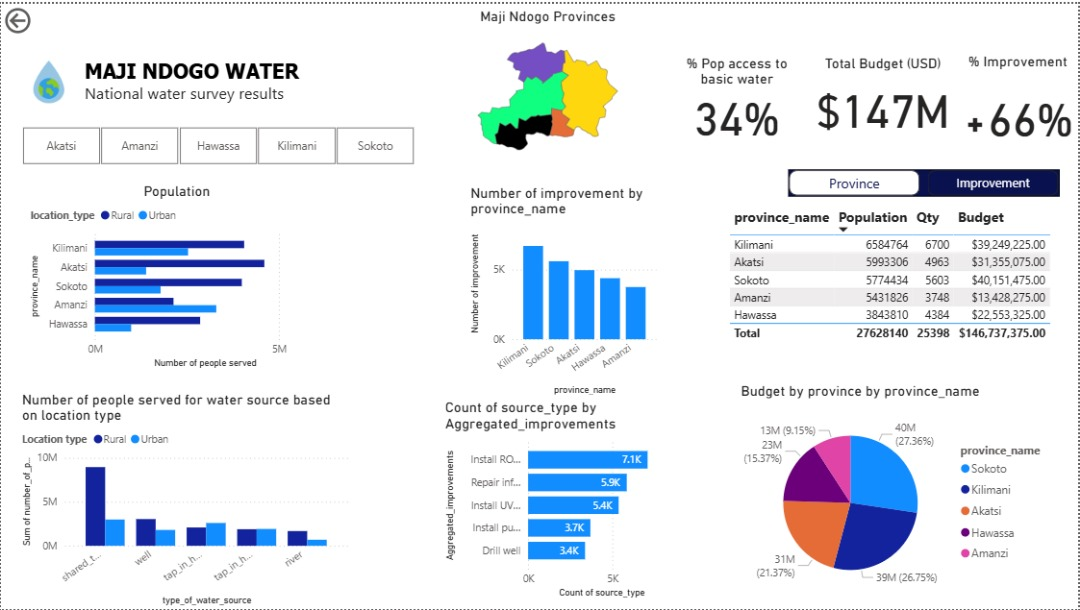

This screenshot's page, from the dashboard's own definition file:
{"tool":"powerbi","page":{"name":"Duplicate of Aziza-National- without the homepage","canvas":[1280,720],"ordinal":11},"visuals":[{"type":"clusteredBarChart","title":"Population","fields":{"Category":["location.province_name"],"Y":["water_source.number_of_people_served"],"Series":["location.location_type"]},"box":[30.2,212.3,358.3,225.6],"z":0},{"type":"clusteredColumnChart","title":"Number of people served for water source based on location type","fields":{"Series":["location.location_type"],"Category":["water_source.type_of_water_source"],"Y":["water_source.number_of_people_served"]},"box":[20.6,459.7,397.9,260.7],"z":1000},{"type":"textbox","box":[94.7,60.4,472,79.6],"z":2000},{"type":"image","box":[0,60.4,113.9,65.9],"z":3000},{"type":"slicer","fields":{"Values":["location.province_name"]},"box":[0,140,514.6,57.6],"z":4000},{"type":"shapeMap","title":"Maji Ndogo Provinces","fields":{"Category":["location.province_name"],"Series":["location.province_name"]},"box":[597.2,10.9,194.2,193],"z":5000},{"type":"clusteredColumnChart","fields":{"Category":["location.province_name"],"Y":["project_progress.improvement"]},"box":[515.2,222,231.6,255.8],"z":6000},{"type":"clusteredBarChart","fields":{"Category":["project_progress.Aggregated_improvements"],"Y":["project_progress.source_type"]},"box":[499.5,479,292,241.3],"z":7000},{"type":"card","title":"% Pop access to basic water","fields":{"Values":["water_source.Basic_access_water_level"]},"box":[791.4,60.3,166.5,103.8],"z":10000},{"type":"card","title":"Total Budget (USD)","fields":{"Values":["project_progress.Budgeted_improvement_cost"]},"box":[957.9,70,178.6,103.8],"z":11000},{"type":"card","title":"% Improvement","fields":{"Values":["water_source.Formatted_Lives_to_improve"]},"box":[1136.5,70,143.6,127.9],"z":12000},{"type":"pieChart","fields":{"Y":["project_progress.Budgeted_improvement_cost"],"Category":["location.province_name"]},"box":[934.5,450.1,274.4,269],"z":13000},{"type":"bookmarkNavigator","box":[935.6,196.6,322.1,32.1],"z":14000},{"type":"tableEx","title":"Number of people served for water source based on location type","fields":{"Values":["location.province_name","water_source.number_of_people_served","project_progress.Aggregated_improvements","project_progress.Budgeted_improvement_cost"]},"box":[860.4,236,402.1,214.1],"z":15000},{"type":"actionButton","box":[0,0,100,40],"z":16000}]}

Visuals, with their boxes in screenshot pixels (x1, y1, x2, y2), scaled from the page's 1280x720 canvas onto the 1080x610 screenshot:
"Population" clusteredBarChart: x1=25 y1=180 x2=328 y2=371
"Number of people served for water source based on location type" clusteredColumnChart: x1=17 y1=389 x2=353 y2=609
textbox: x1=80 y1=51 x2=478 y2=119
image: x1=0 y1=51 x2=96 y2=107
slicer - location.province_name: x1=0 y1=119 x2=434 y2=167
"Maji Ndogo Provinces" shapeMap: x1=504 y1=9 x2=668 y2=173
clusteredColumnChart - location.province_name x project_progress.improvement: x1=435 y1=188 x2=630 y2=405
clusteredBarChart - project_progress.Aggregated_improvements x project_progress.source_type: x1=421 y1=406 x2=668 y2=609
"% Pop access to basic water" card: x1=668 y1=51 x2=808 y2=139
"Total Budget (USD)" card: x1=808 y1=59 x2=959 y2=147
"% Improvement" card: x1=959 y1=59 x2=1079 y2=168
pieChart - project_progress.Budgeted_improvement_cost x location.province_name: x1=788 y1=381 x2=1020 y2=609
bookmarkNavigator: x1=789 y1=167 x2=1061 y2=194
"Number of people served for water source based on location type" tableEx: x1=726 y1=200 x2=1065 y2=381
actionButton: x1=0 y1=0 x2=84 y2=34
